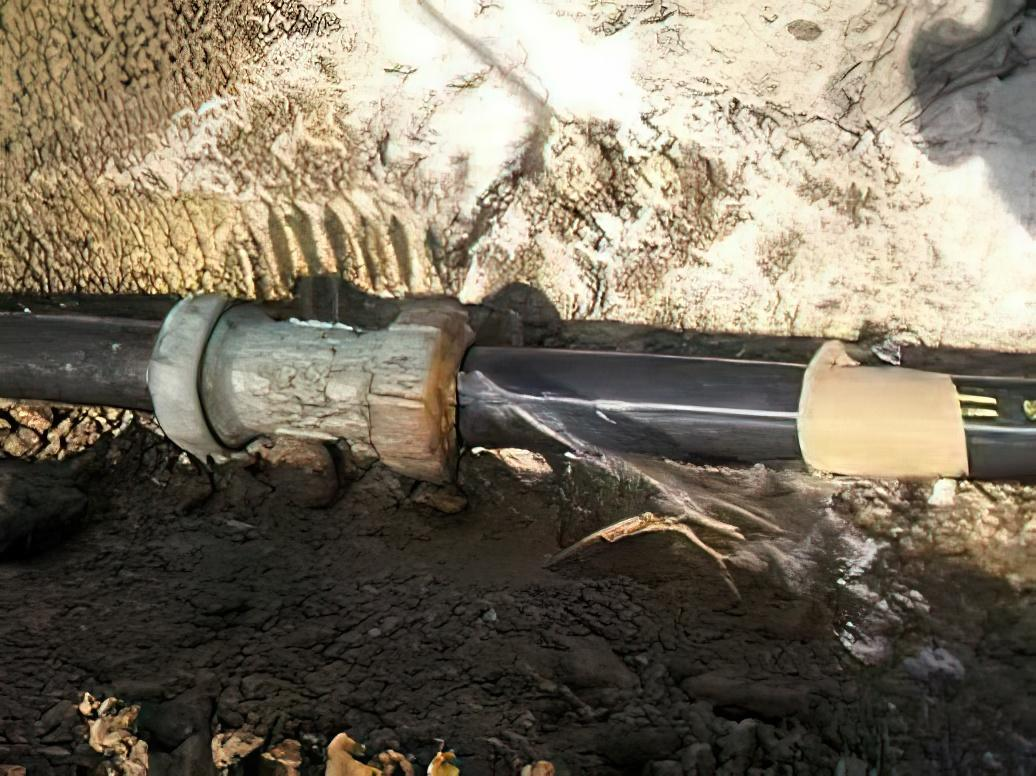pipe burst: (443, 360, 798, 519)
